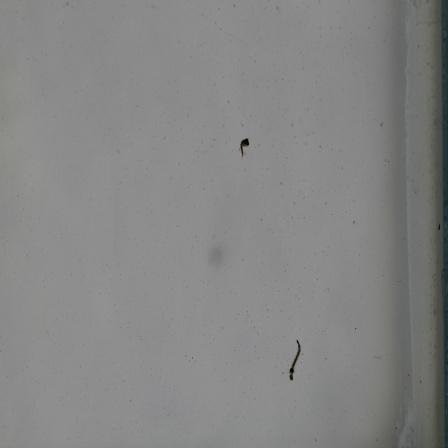Jentik-Nyamuk: (284, 334, 307, 385), (235, 133, 253, 159)
